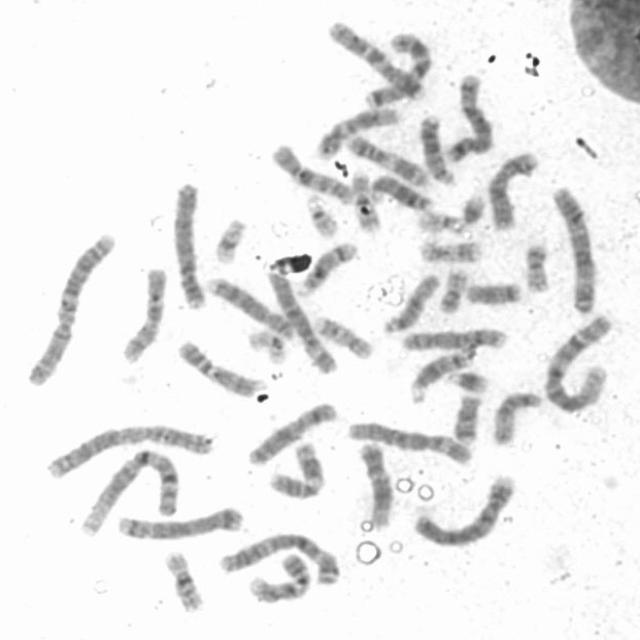A1: (74, 443, 184, 540), (539, 309, 616, 415)
A2: (20, 226, 119, 388), (40, 417, 216, 480)
A3: (213, 527, 344, 587), (547, 180, 602, 316)
B4: (408, 468, 520, 548), (168, 176, 209, 311)
B5: (440, 68, 497, 163), (114, 501, 246, 542)
C10: (266, 138, 355, 206), (115, 261, 170, 365)
C11: (342, 129, 432, 188), (265, 436, 328, 500)
C12: (310, 101, 404, 160), (353, 436, 397, 529)
C6: (264, 266, 341, 375), (343, 416, 476, 467)
C7: (323, 16, 428, 102), (362, 27, 435, 110)
C8: (202, 270, 299, 341), (396, 322, 508, 353)
C9: (173, 335, 267, 397), (242, 548, 312, 604)
D13: (415, 108, 461, 186), (366, 169, 435, 213)
D14: (404, 343, 476, 405), (292, 236, 360, 297)
D15: (378, 268, 442, 335), (488, 385, 546, 447)
E16: (159, 545, 207, 613), (348, 165, 383, 235)
E17: (309, 310, 376, 361), (414, 234, 486, 264)
E18: (448, 388, 484, 444), (460, 276, 524, 307)
F19: (210, 212, 250, 266), (243, 325, 291, 365)
F20: (434, 262, 471, 314), (520, 238, 554, 294)
G21: (441, 364, 492, 394), (454, 188, 488, 227)
G22: (301, 190, 342, 238), (411, 205, 467, 236)
X: (242, 396, 340, 467), (482, 146, 541, 231)
